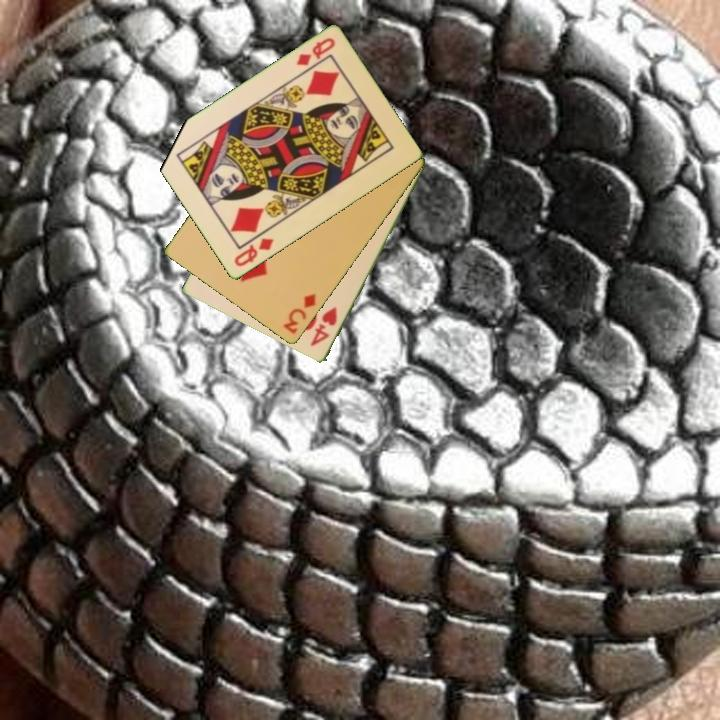3d: (280, 290, 319, 337)
4h: (307, 304, 340, 350)
Qd: (230, 235, 276, 270), (293, 34, 338, 69)
